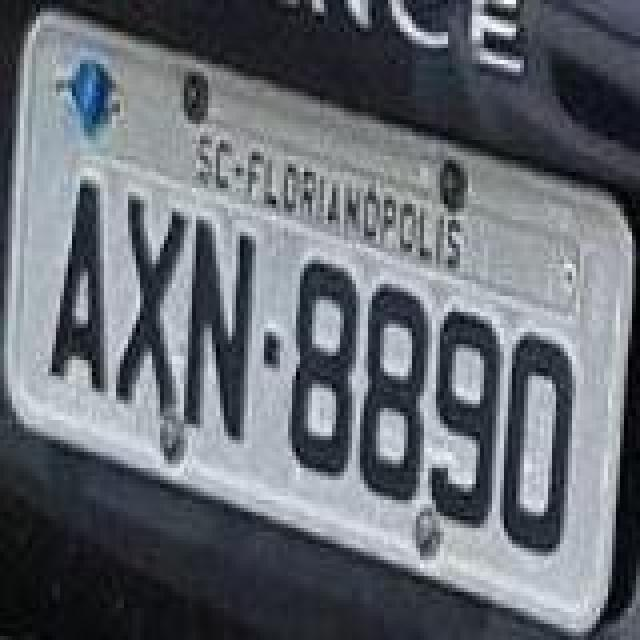8: (354, 282, 430, 502), (288, 256, 360, 480)
9: (426, 306, 502, 534)
A: (50, 178, 110, 398)
N: (182, 214, 258, 442)
O: (496, 330, 576, 558)
X: (114, 194, 190, 414)
